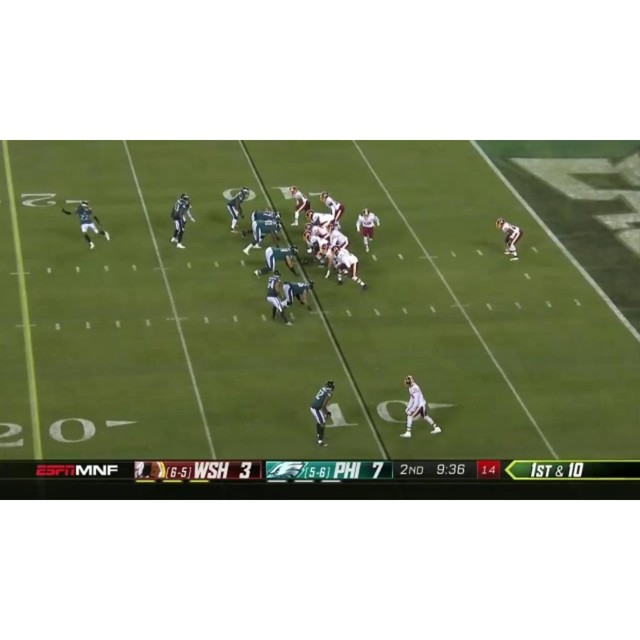american-football-player: (401, 373, 442, 437), (64, 200, 110, 249), (309, 380, 336, 446), (331, 245, 368, 291), (243, 214, 283, 256), (254, 245, 301, 279), (265, 270, 292, 325), (170, 194, 192, 250), (496, 218, 522, 260), (226, 187, 250, 232), (356, 208, 380, 252), (282, 280, 315, 310), (303, 231, 328, 267), (289, 186, 311, 226), (320, 191, 344, 225), (305, 209, 336, 229)
